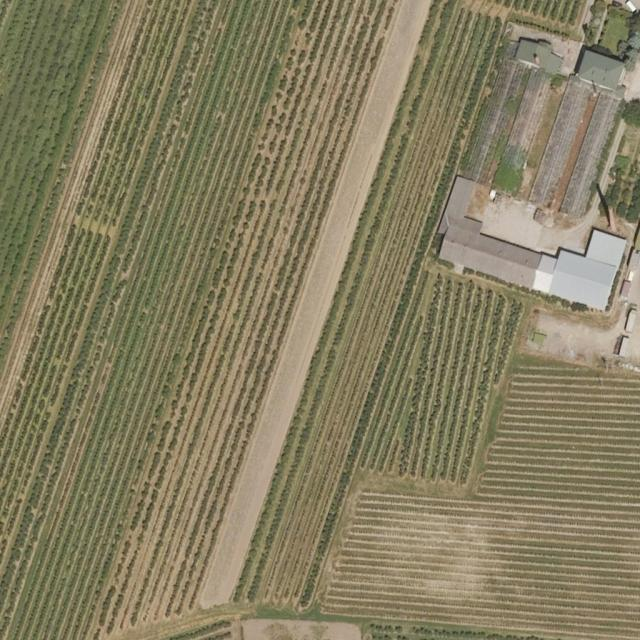building: (430, 20, 640, 316)
